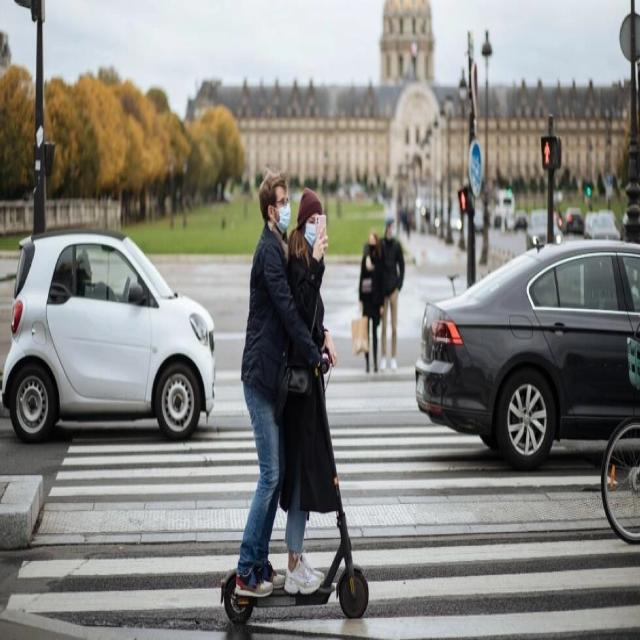helmet: (203, 148, 382, 640)
